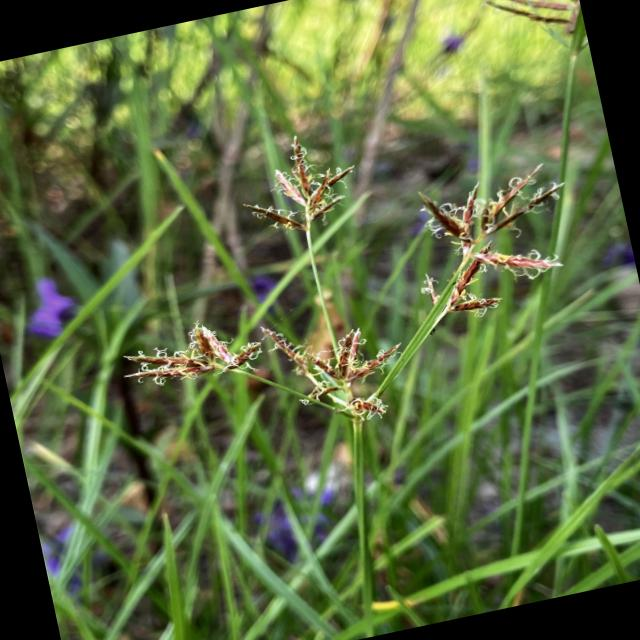cyperus: (71, 70, 616, 490), (398, 150, 596, 340), (256, 286, 420, 442), (226, 117, 371, 257), (108, 298, 276, 417), (466, 0, 591, 76)
